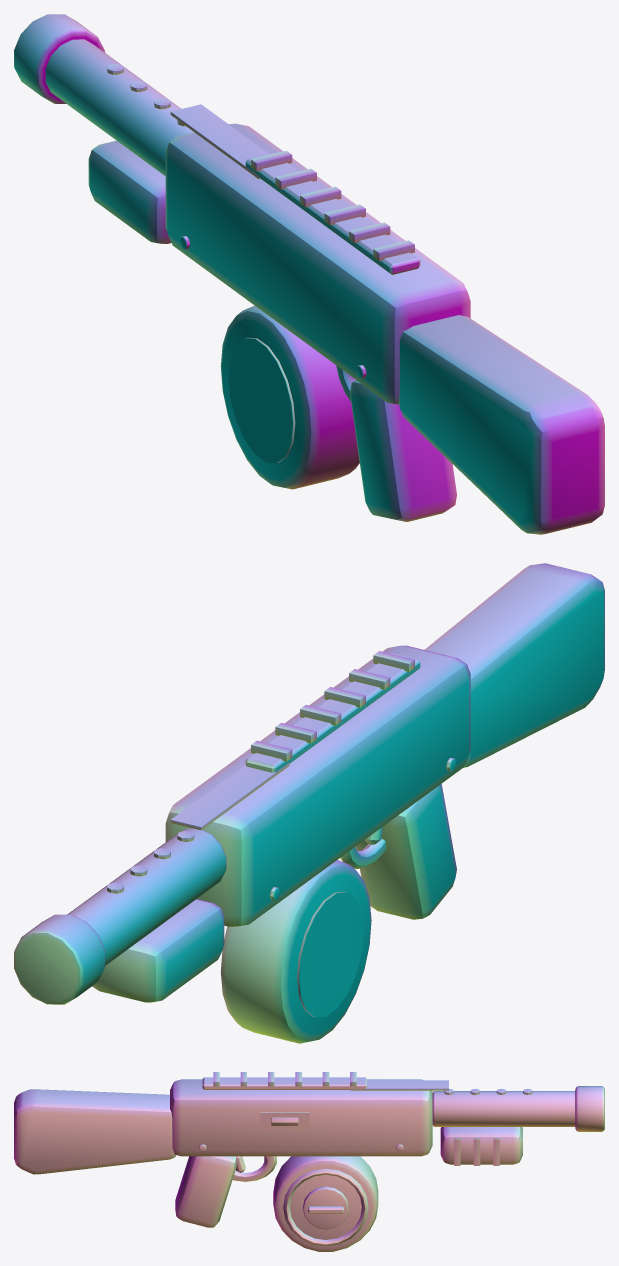
The model's file is wpn_autoshot.glb.
The picture shows the model from 3 angles, top to bottom: view 1: azimuth 30°, elevation 25°; view 2: azimuth 150°, elevation 25°; view 3: azimuth 270°, elevation 25°; orthographic projection. The views are drawn at different scales.
Parts seen in each view (by area): view 1: wpn_autoshot_mesh; view 2: wpn_autoshot_mesh; view 3: wpn_autoshot_mesh.
Boxes of the visible parts, x1=… form: wpn_autoshot_mesh: x1=14, y1=14, x2=604, y2=534; wpn_autoshot_mesh: x1=14, y1=563, x2=604, y2=1043; wpn_autoshot_mesh: x1=14, y1=1072, x2=604, y2=1251.
Bounding box in the file's own units: 0.0382 × 0.1132 × 0.36.
